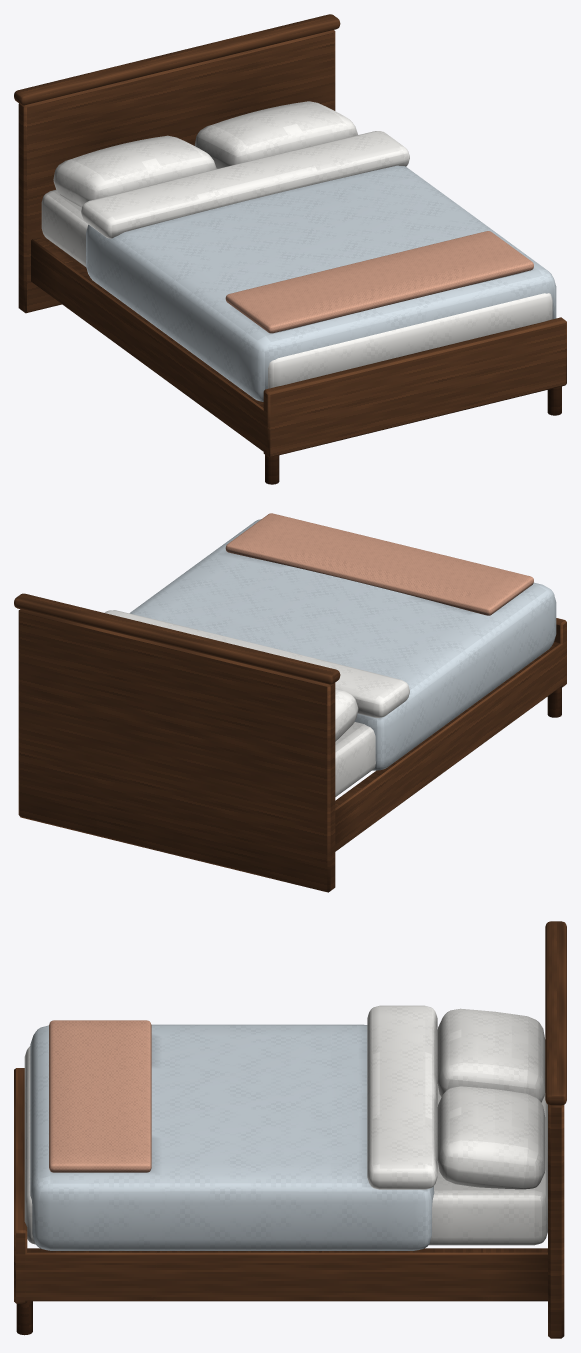
The model's file is bed_double.glb.
3 renders of one model, top to bottom at view 1: azimuth 30°, elevation 25°; view 2: azimuth 150°, elevation 25°; view 3: azimuth 270°, elevation 25°, orthographic. The views are drawn at different scales.
Parts seen in each view (by area): view 1: body; view 2: body; view 3: body.
Boxes of the visible parts, box(x1,y1,x2,y2) form: body: box(14, 14, 566, 484); body: box(14, 513, 566, 892); body: box(14, 921, 566, 1338).
Size of what is drawn, in the model's own units: 1.54 by 1.01 by 2.05.
Materials: 5 (5 with a texture image).
